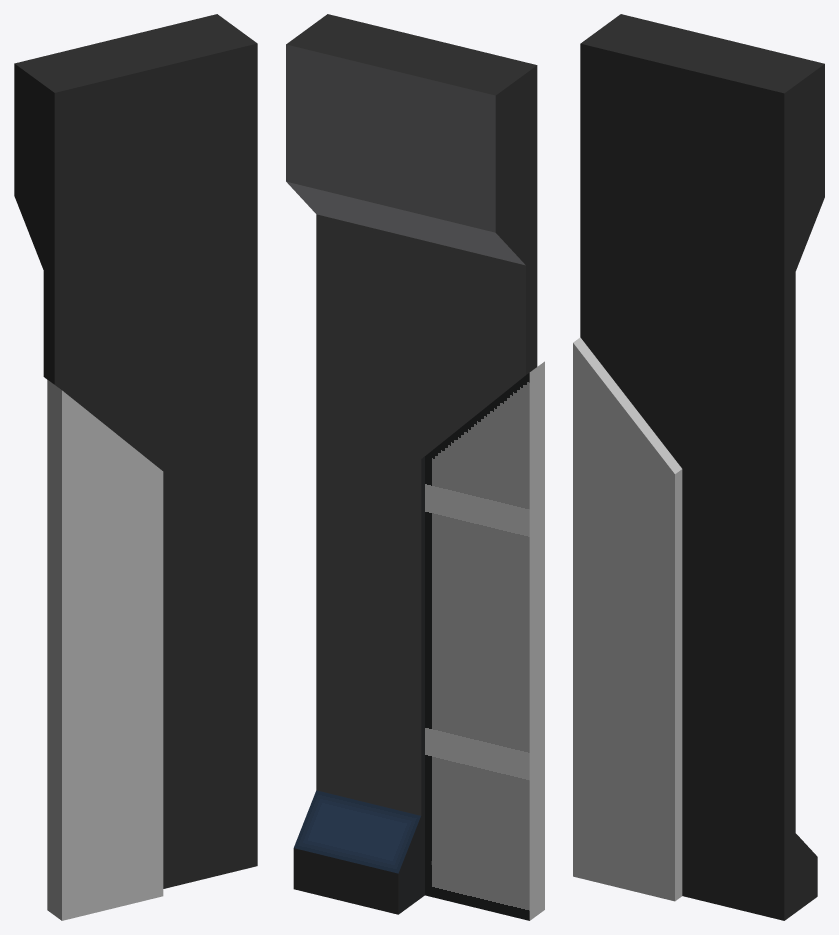
Rendered from CalShipCargoWallDoorLeft.gltf.
3 views of the same model, side by side, from view 1: azimuth 30°, elevation 25°; view 2: azimuth 150°, elevation 25°; view 3: azimuth 330°, elevation 25° (orthographic). The views are drawn at different scales.
Parts seen in each view (by area): view 1: mesh; view 2: mesh; view 3: mesh.
Boxes of the visible parts, <box> form: mesh: <box>14,14,257,920</box>; mesh: <box>286,14,544,920</box>; mesh: <box>573,14,824,920</box>.
Bounding box in the file's own units: 1 × 3.88 × 0.4062.
1 material, 1 textured.
